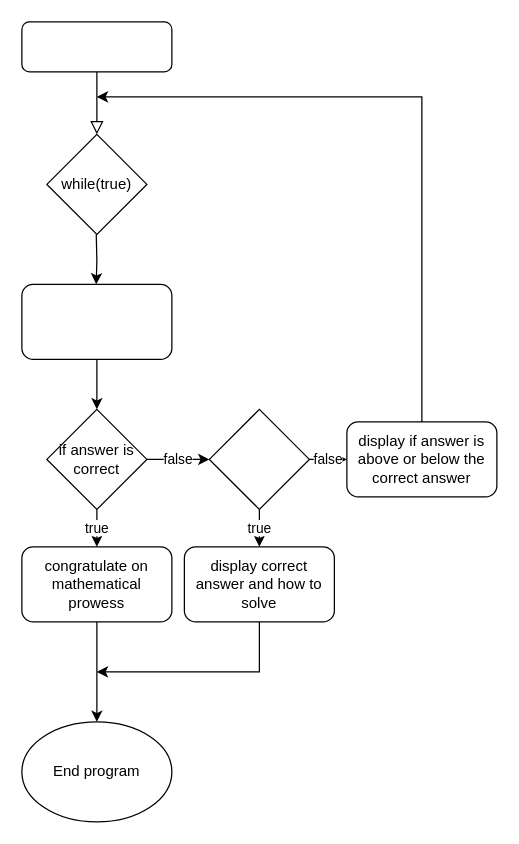
Image size: 519x844. Some labels were removed from this diagram. The shapes that lost their labels are listed below. From the top down, each one's centre as x and y in pixels, then its label:
At (x=96, y=46): "Begin program".
At (x=96, y=321): "Prompt user with a math question".
At (x=258, y=458): "more than 3 attempts".
